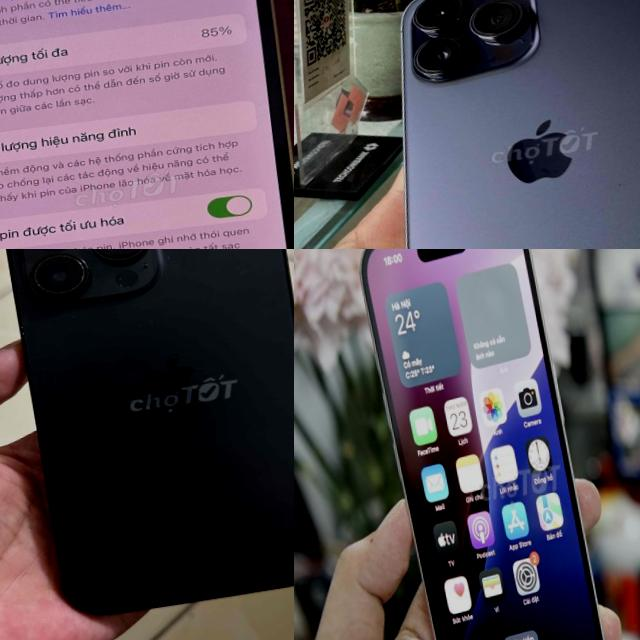gen_12_13: (0, 0, 294, 249)
gen_14: (0, 249, 294, 637), (345, 0, 640, 249)
gen_16: (342, 249, 625, 640)
